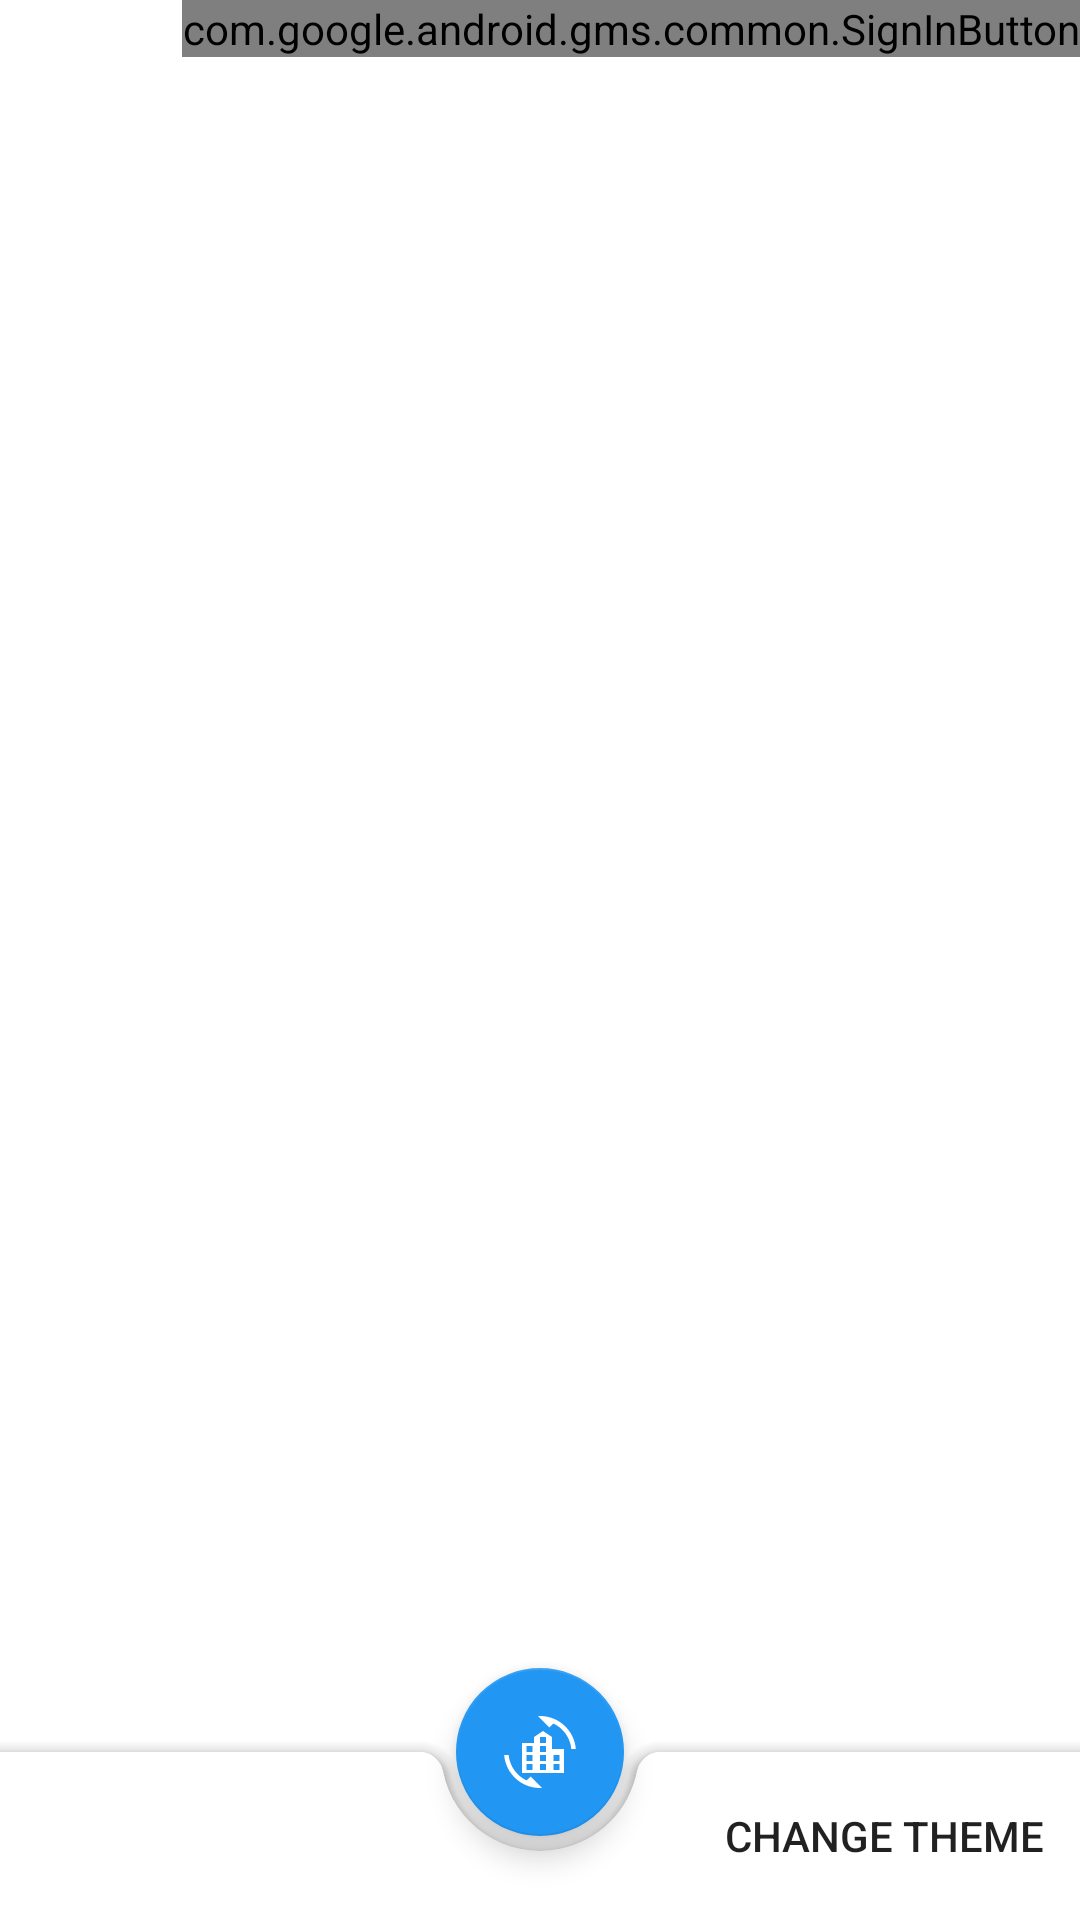

Icons on this 1080w x 1920h Android screen, each with its box as (x1, y1, x2, y2):
change city: (456, 1668, 624, 1836)
